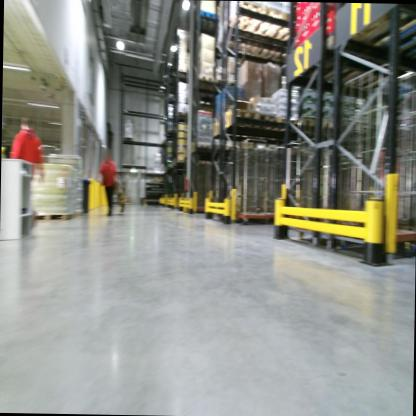pallet: (244, 6, 288, 67), (224, 3, 265, 60), (192, 142, 238, 155), (192, 10, 215, 32), (230, 103, 255, 122), (252, 110, 280, 126), (27, 212, 76, 221), (278, 112, 304, 127), (195, 73, 213, 84)
